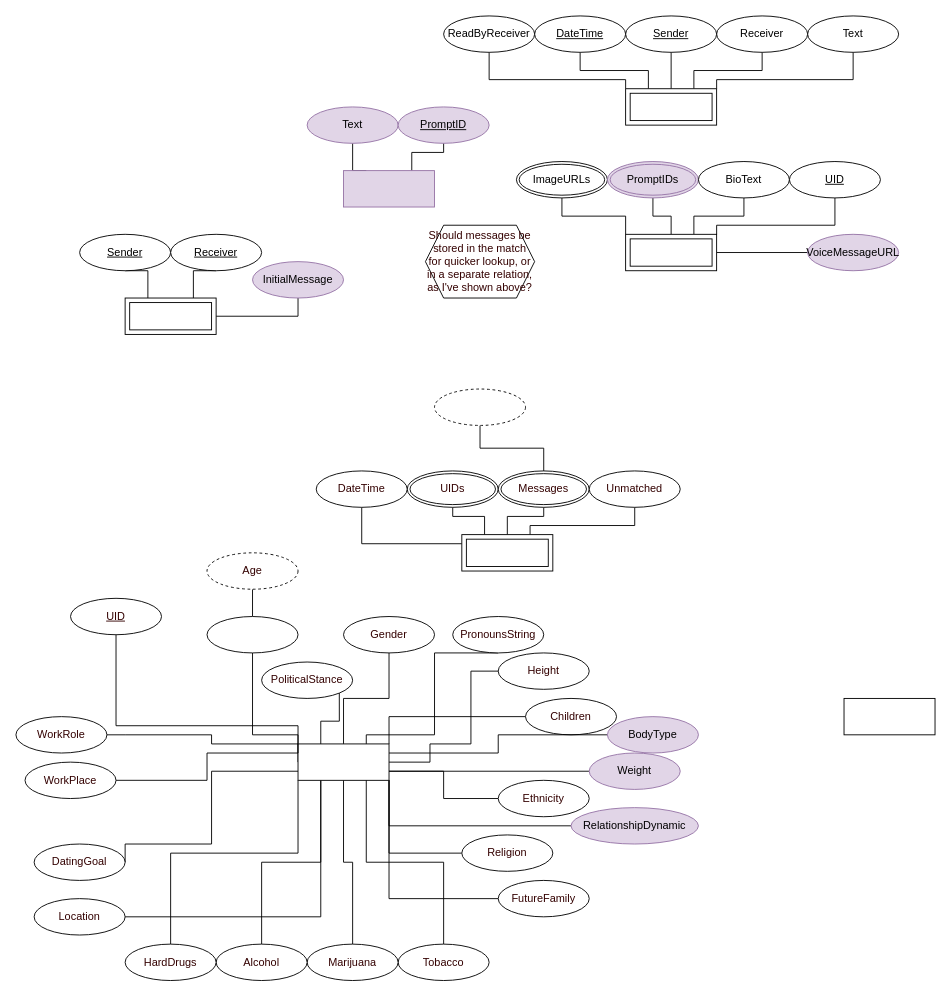
Image size: 951x996. Some labels were removed from this diagram. The box of each missing label's shape, as (x1, y1, x2, y2) in pixels:
BirthDate: (206, 616, 298, 653)
Card: (625, 233, 717, 271)
Filter: (843, 698, 935, 735)
Likes: (124, 297, 216, 334)
Match: (461, 534, 553, 571)
Message: (625, 88, 717, 125)
Number of messages: (434, 388, 526, 425)
Prompt: (343, 170, 435, 207)
User: (297, 743, 389, 780)
